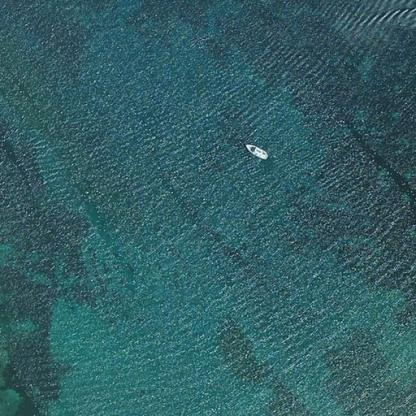ship: (240, 138, 273, 164)
